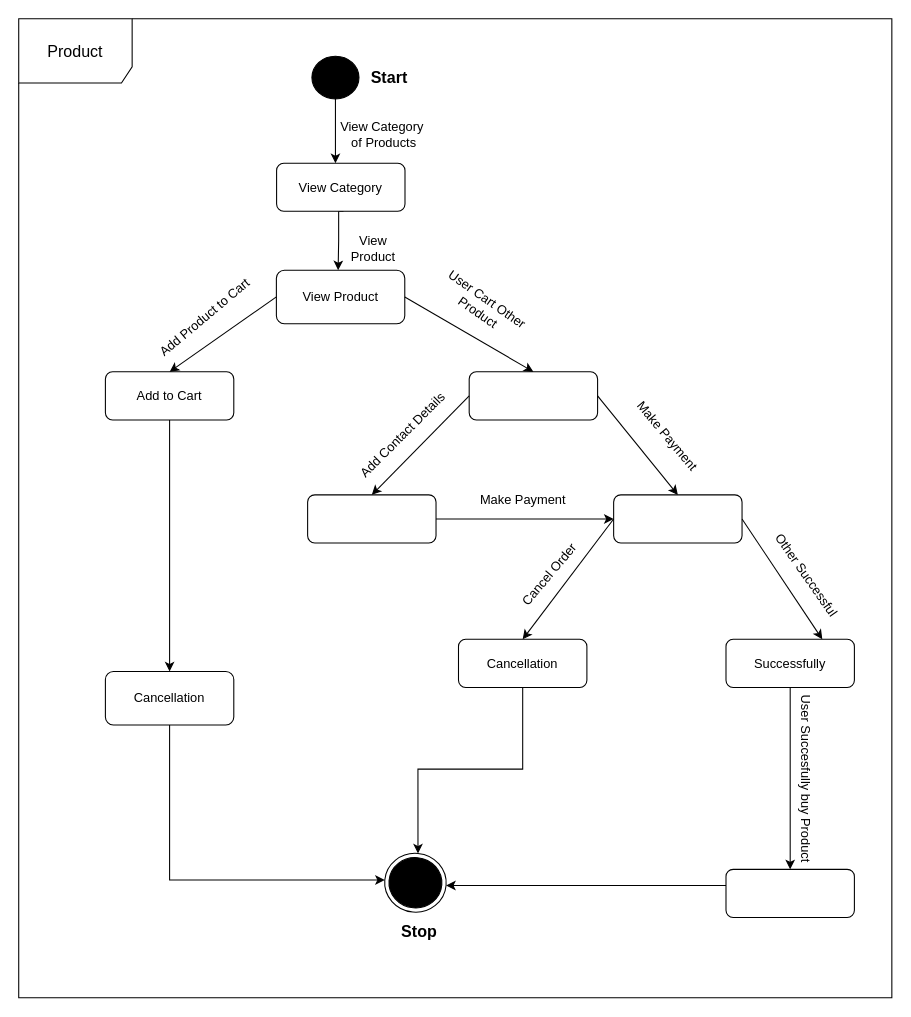
Some shapes in this 911 by 1017 pixel diagram are drawn without their labels. Here are the shapes that lost their labels. From the top down, the box of each, then its label:
(468, 371, 598, 420): Order Product
(307, 494, 436, 543): Contact Details
(613, 494, 742, 543): Payment
(725, 868, 854, 918): Pace Order
